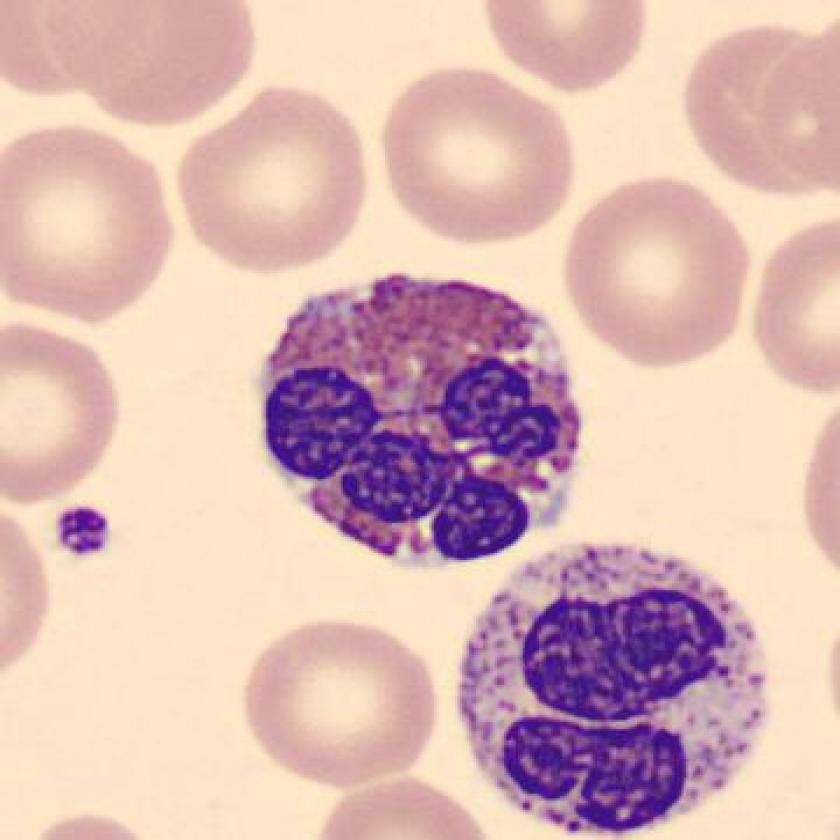eosinophil: (246, 251, 594, 582)
